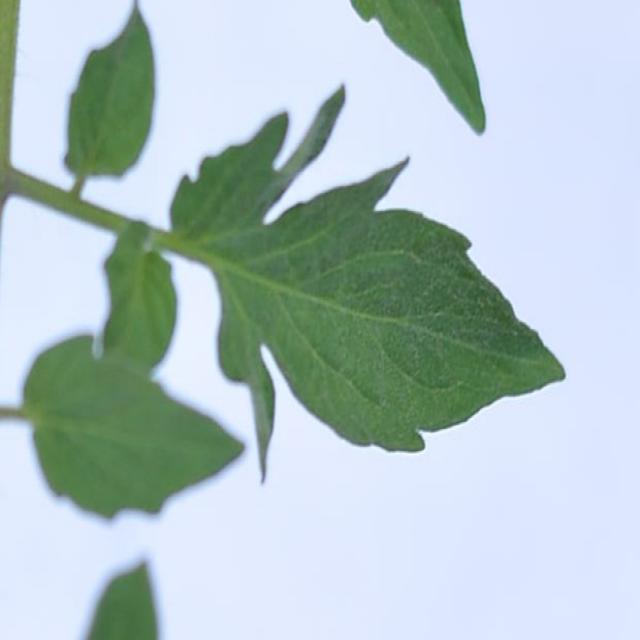healthy: (190, 79, 569, 482), (16, 327, 249, 534), (63, 1, 164, 199)
